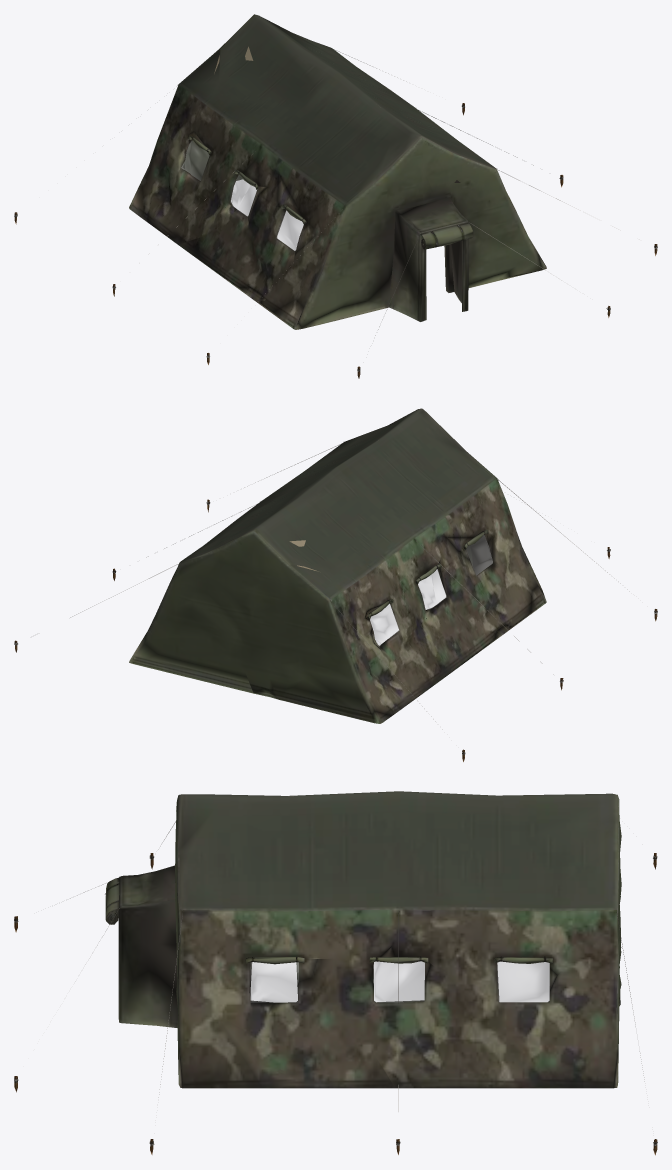
File: tent.lod0.glb
3 views of the same model, one above another, from view 1: azimuth 30°, elevation 25°; view 2: azimuth 150°, elevation 25°; view 3: azimuth 270°, elevation 25° (orthographic). The views are drawn at different scales.
Visible parts, largest first — view 1: Military_tent_01_0, Military_tent_Glass_0; view 2: Military_tent_01_0, Military_tent_Glass_0; view 3: Military_tent_01_0, Military_tent_Glass_0.
Part boxes in pixels (x1=…): Military_tent_01_0: x1=14, y1=14, x2=657, y2=378; Military_tent_Glass_0: x1=181, y1=141, x2=303, y2=250; Military_tent_01_0: x1=14, y1=408, x2=657, y2=761; Military_tent_Glass_0: x1=367, y1=535, x2=492, y2=645; Military_tent_01_0: x1=14, y1=791, x2=657, y2=1155; Military_tent_Glass_0: x1=250, y1=961, x2=549, y2=1002.
Bounding box in the file's own units: 11.16 × 4 × 10.53.
Materials: 2 (1 with a texture image).
